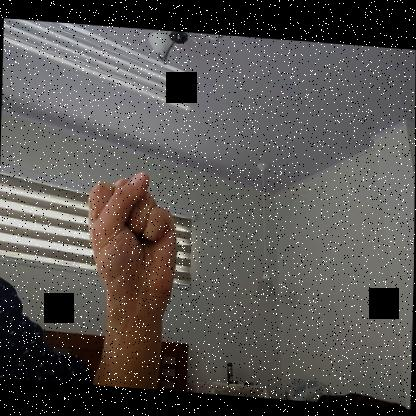S: (86, 166, 179, 304)
